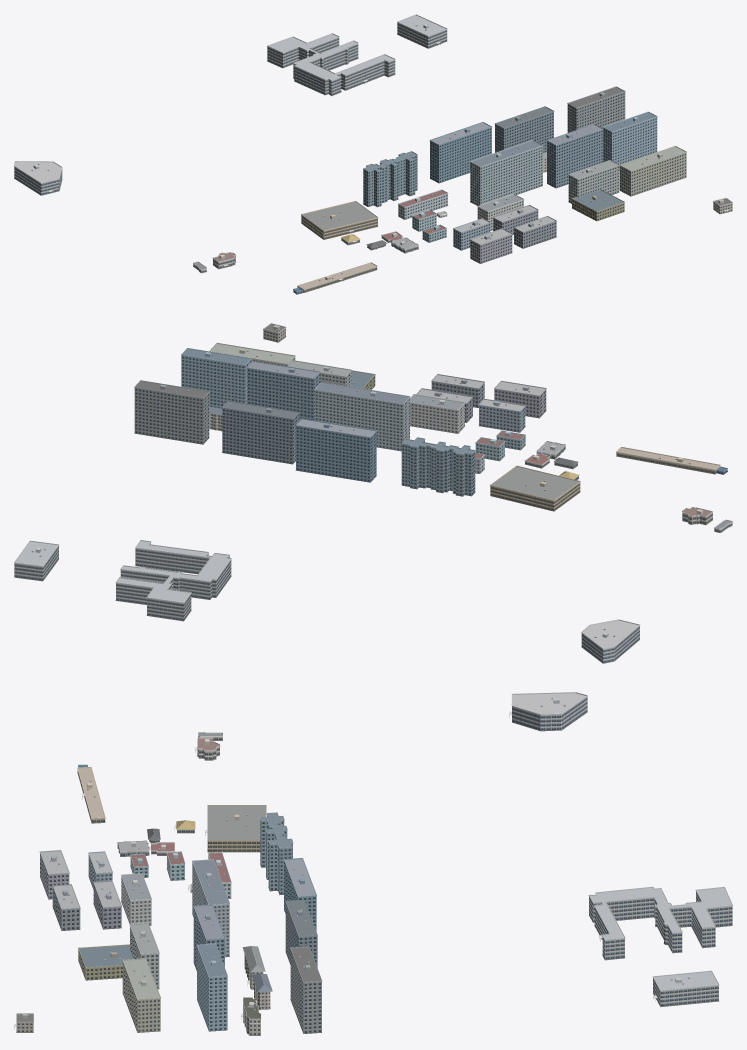
3 renders of one model, top to bottom at view 1: azimuth 30°, elevation 25°; view 2: azimuth 150°, elevation 25°; view 3: azimuth 270°, elevation 25°, orthographic. The views are drawn at different scales.
Visible parts, largest first — view 1: 1425270079, manual-4, manual-0, manual-5, 1424986310, manual-11, manual-6, manual-27, manual-2, manual-1, manual-9, 1425270088 (+9 smaller); view 2: 1425270079, manual-0, manual-4, manual-2, manual-1, 1424986310, manual-5, manual-6, manual-27, 1425270088, manual-8, 1321673118 (+8 smaller); view 3: 1425270079, manual-27, 1425270088, manual-2, manual-6, manual-11, 1321673118, 1424986310, manual-4, manual-10, manual-1, manual-0 (+11 smaller).
Boxes of the visible parts, left/top/right/bottom form: 1425270079: left=267, top=33, right=395, bottom=96; manual-4: left=470, top=140, right=543, bottom=205; manual-0: left=429, top=122, right=491, bottom=183; manual-5: left=546, top=124, right=603, bottom=188; 1424986310: left=363, top=151, right=417, bottom=207; manual-11: left=619, top=146, right=686, bottom=196; manual-6: left=602, top=111, right=657, bottom=170; manual-27: left=301, top=201, right=378, bottom=239; manual-2: left=567, top=86, right=625, bottom=132; manual-1: left=494, top=106, right=554, bottom=152; manual-9: left=568, top=160, right=619, bottom=203; 1425270088: left=14, top=161, right=62, bottom=195; 1425270079: left=115, top=540, right=231, bottom=621; manual-0: left=295, top=418, right=376, bottom=482; manual-4: left=314, top=382, right=410, bottom=451; manual-2: left=134, top=380, right=209, bottom=444; manual-1: left=222, top=400, right=299, bottom=464; 1424986310: left=401, top=437, right=475, bottom=496; manual-5: left=247, top=360, right=320, bottom=420; manual-6: left=181, top=348, right=251, bottom=408; manual-27: left=490, top=465, right=580, bottom=511; 1425270088: left=581, top=619, right=640, bottom=663; manual-8: left=410, top=394, right=465, bottom=433; 1321673118: left=14, top=540, right=59, bottom=581; 1425270079: left=588, top=886, right=732, bottom=960; manual-27: left=205, top=805, right=266, bottom=852; 1425270088: left=509, top=692, right=587, bottom=731; manual-2: left=290, top=946, right=322, bottom=1033; manual-6: left=196, top=943, right=227, bottom=1031; manual-11: left=122, top=958, right=160, bottom=1032; 1321673118: left=652, top=970, right=719, bottom=1007; 1424986310: left=260, top=812, right=293, bottom=895; manual-4: left=192, top=859, right=229, bottom=957; manual-10: left=78, top=944, right=133, bottom=980; manual-1: left=285, top=899, right=317, bottom=967; manual-0: left=283, top=858, right=316, bottom=931.
Bounding box in the file's own units: 658 × 55.7 × 612.
Materials: 5 (4 with a texture image).
